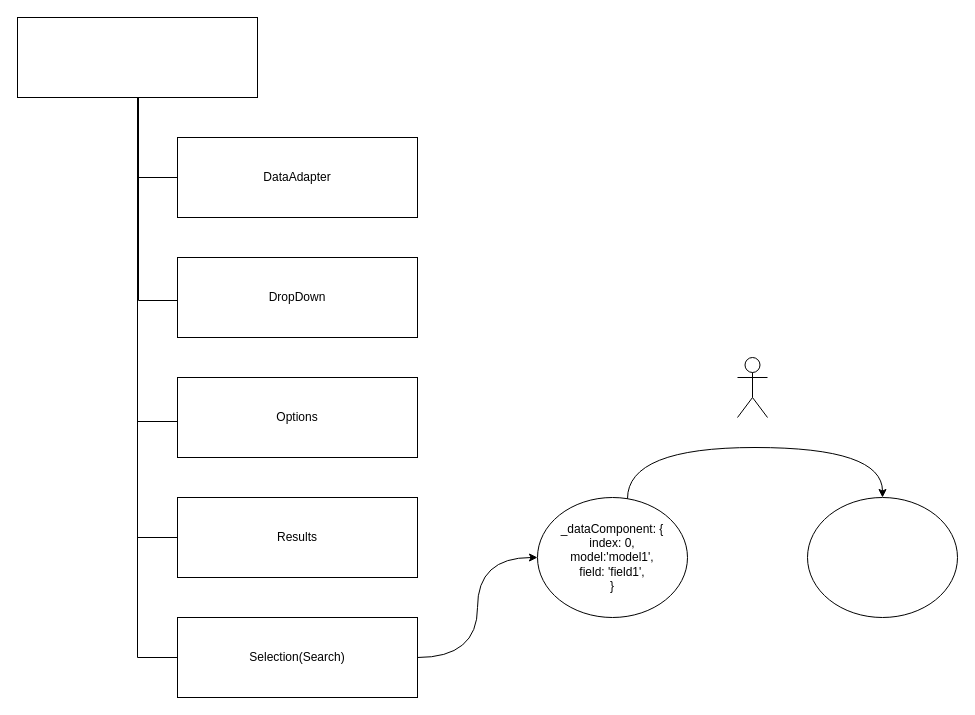
Image size: 975x715. Some labels were removed from this diagram. Here are the shapes that lost their labels. From the top down, the box of each, then its label:
(16, 16, 258, 98): ExtendedAutocompleteSelectMultiply
(736, 356, 768, 418): Enter
(806, 496, 958, 618): _dataComponent: { index: 1, model:'model2', field: 'field2', }
